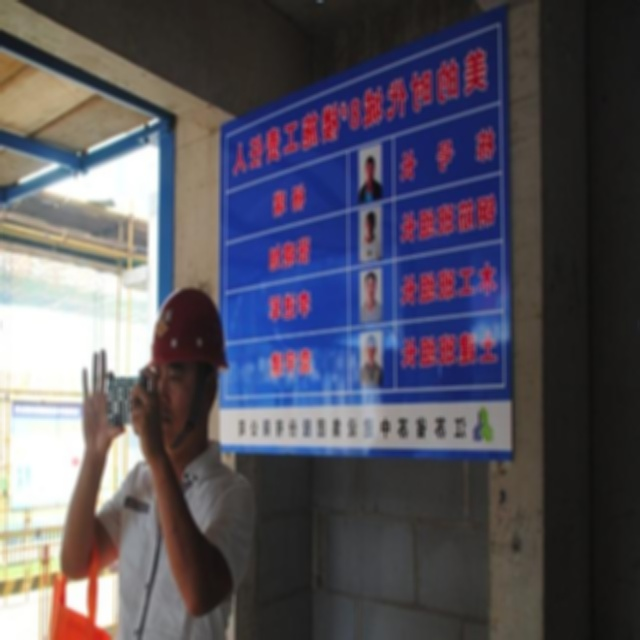Con_Casco: (148, 287, 225, 449)
